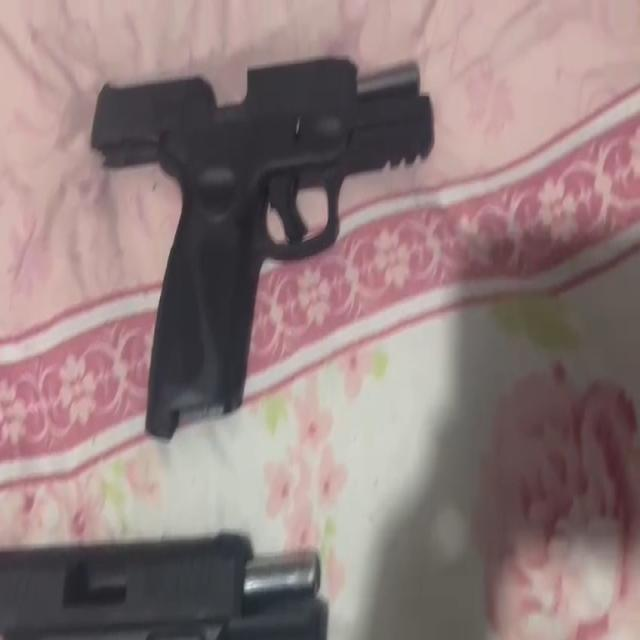guns: (92, 54, 438, 432)
